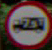Heavy Vehicles: (8, 5, 48, 38)
